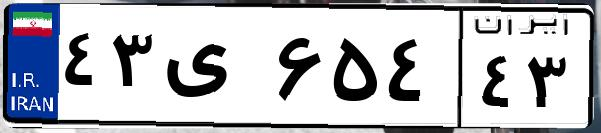3: (525, 38, 570, 115), (110, 28, 158, 98)
4: (385, 28, 445, 110), (57, 26, 110, 100), (475, 38, 525, 113)
5: (330, 28, 385, 110)
6: (270, 28, 330, 110)
ی: (158, 20, 270, 120)
